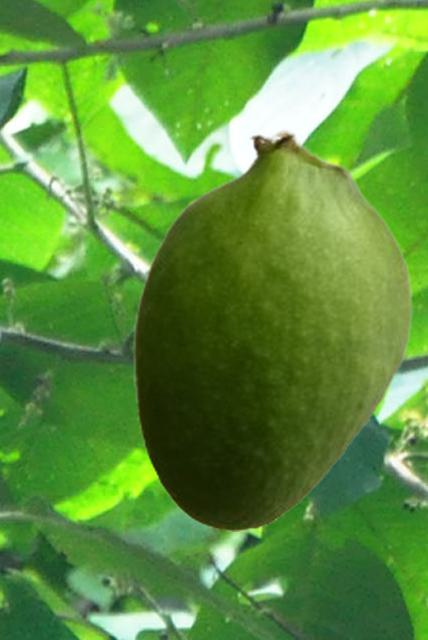green_mango: (132, 128, 412, 530)
